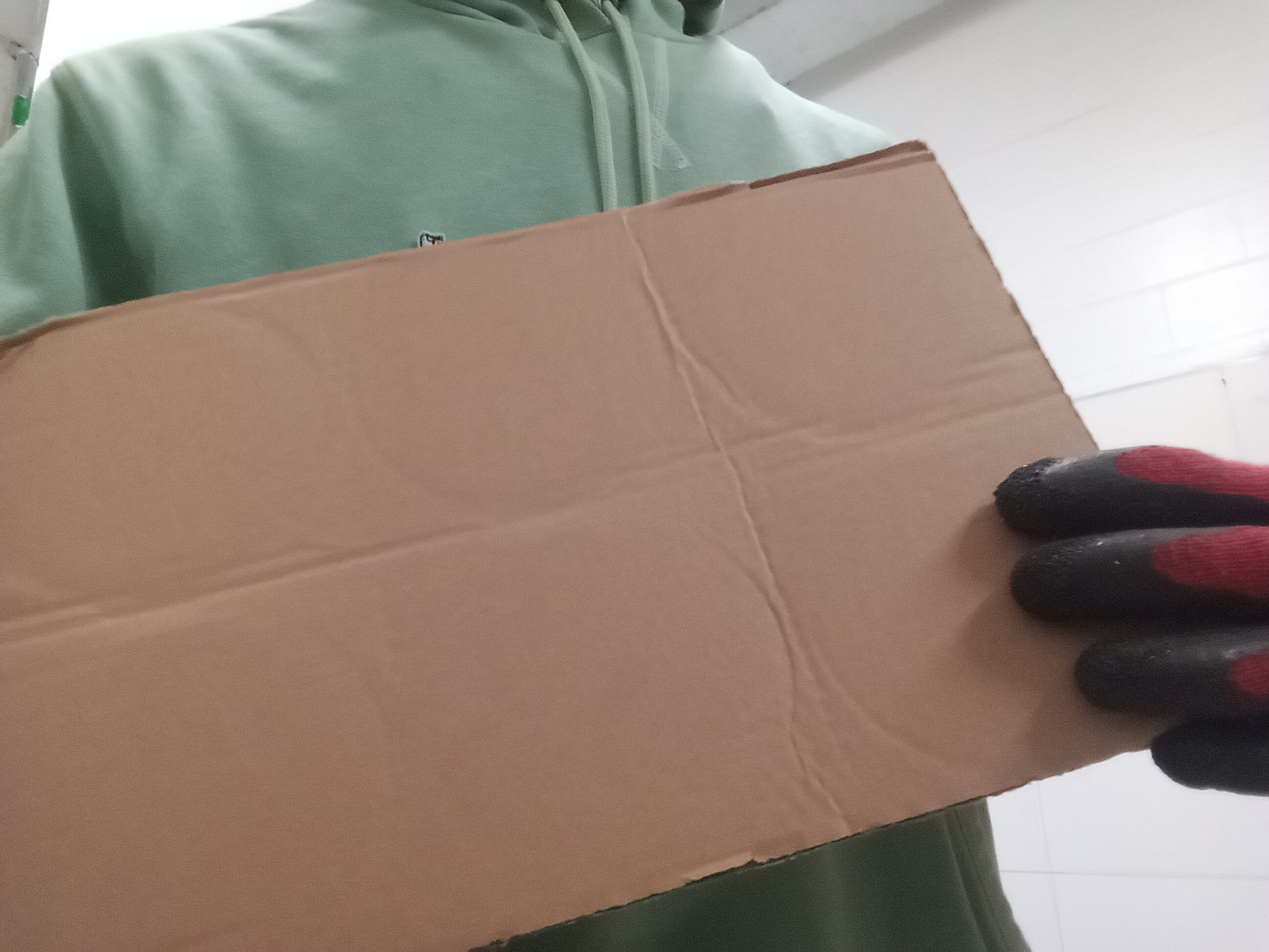Carton: (0, 139, 1225, 952)
